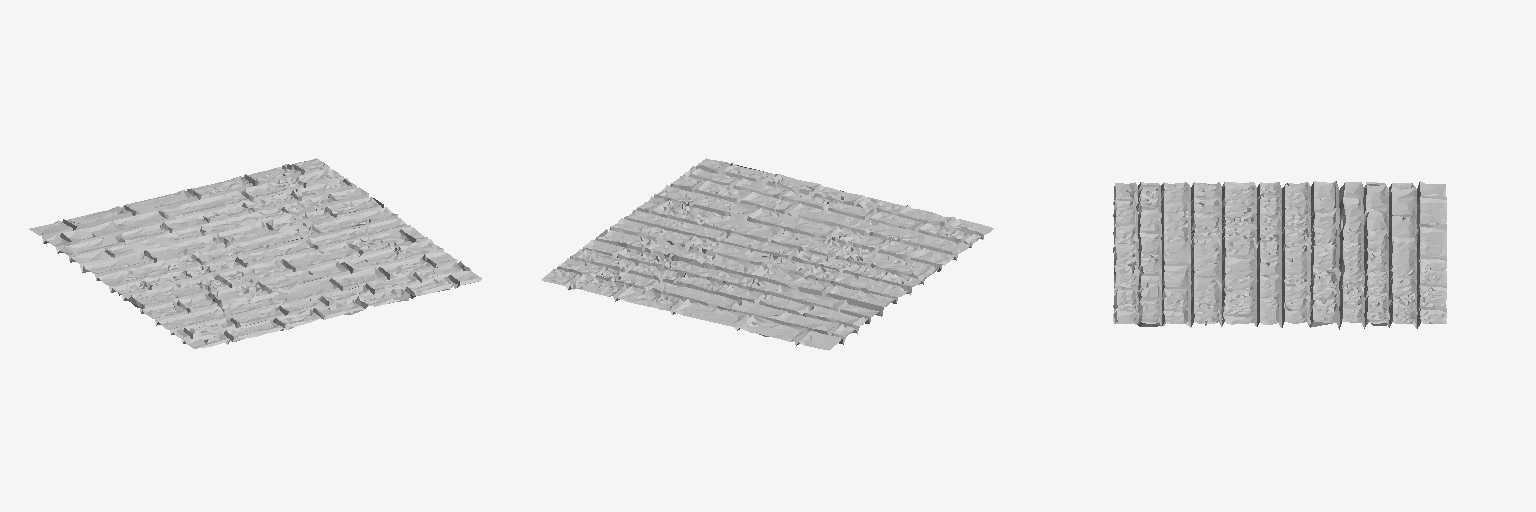
Rendered from sponza_brick.obj.
The picture shows the model from 3 angles: view 1: azimuth 30°, elevation 25°; view 2: azimuth 150°, elevation 25°; view 3: azimuth 270°, elevation 25°; orthographic projection.
Visible parts, largest first — view 1: Plane.001; view 2: Plane.001; view 3: Plane.001.
Part boxes in pixels (x1,y1,x2,y2): Plane.001: (29,158,481,348); Plane.001: (542,158,993,350); Plane.001: (1113,181,1446,329).
Size of the model in its own units: 2 by 0.084 by 2.01.